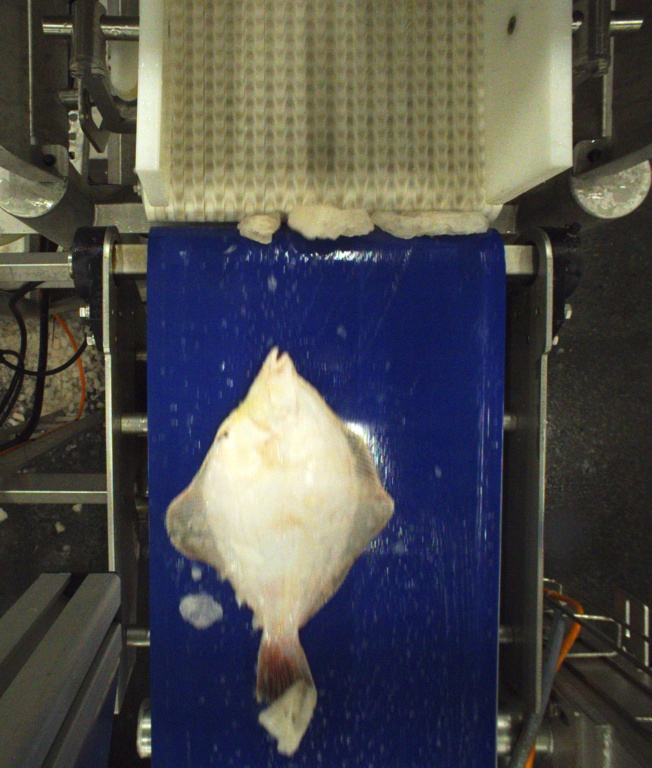PLE: (166, 354, 395, 714)
